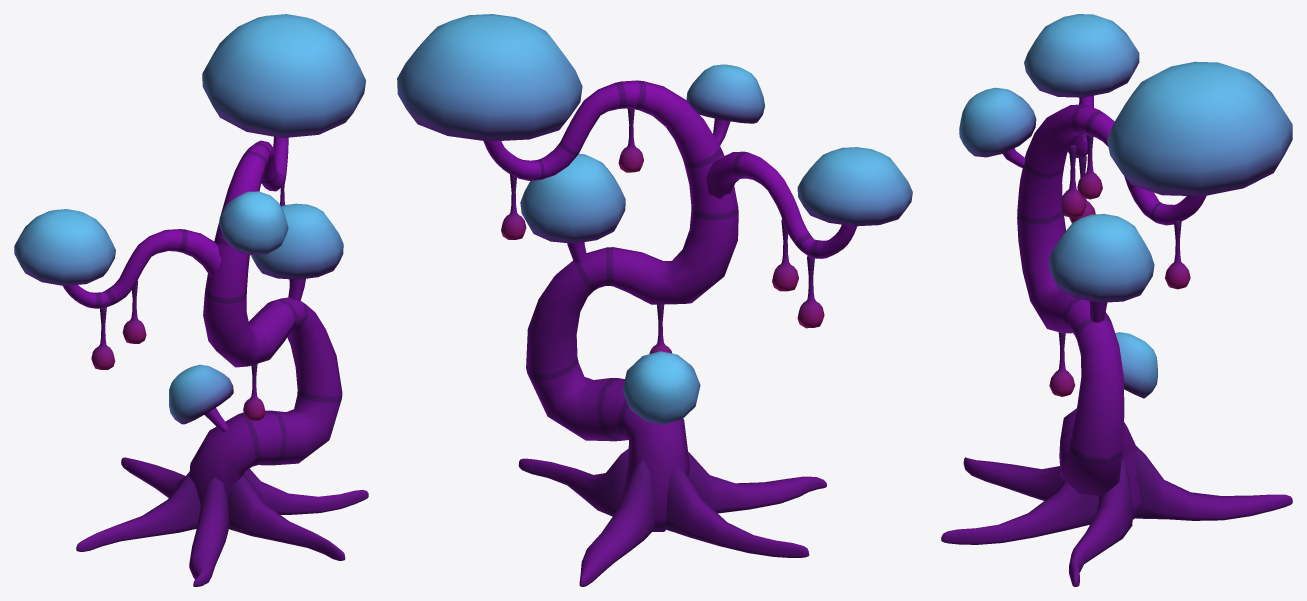
The model's file is anp_tree_1.fbx.
The picture shows the model from 3 angles, left to right: view 1: azimuth 30°, elevation 25°; view 2: azimuth 150°, elevation 25°; view 3: azimuth 270°, elevation 25°; orthographic projection. The views are drawn at different scales.
Parts seen in each view (by area): view 1: t1; view 2: t1; view 3: t1.
Part boxes in pixels (x1,y1,x2,y2): t1: (14, 14, 368, 586); t1: (397, 14, 912, 586); t1: (941, 14, 1292, 586).
Bounding box in the file's own units: 399 × 440 × 277.
